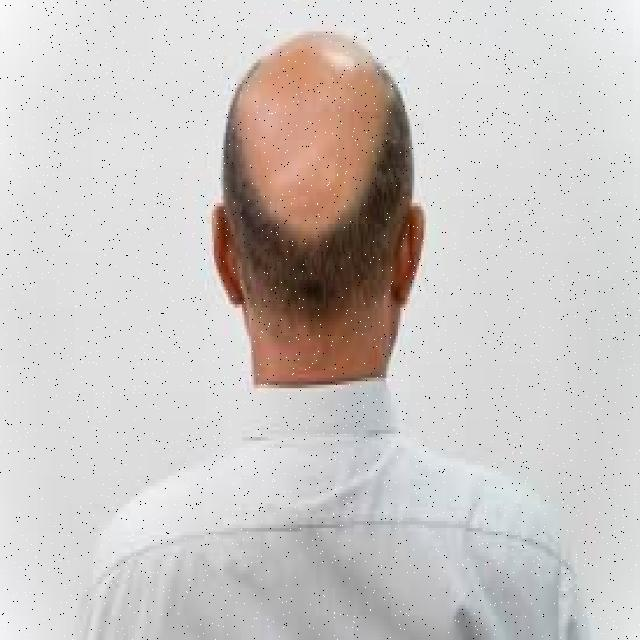Non_Helmet: (186, 4, 444, 357)
